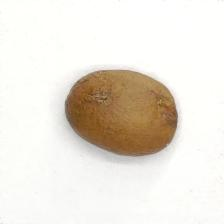NG: (160, 95, 182, 131), (89, 83, 116, 110)
